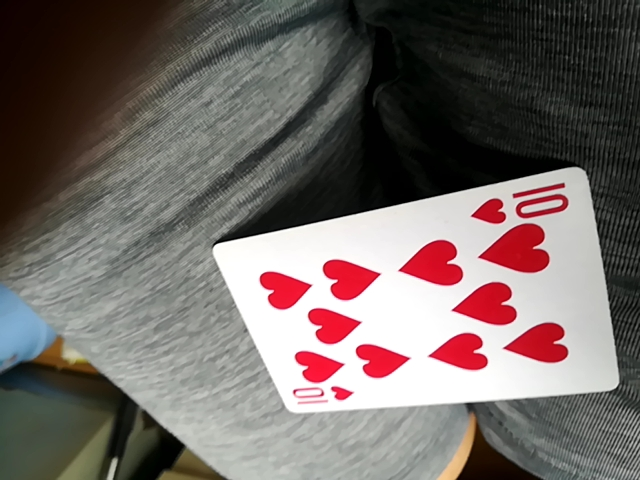hx 10: (212, 169, 616, 412)
